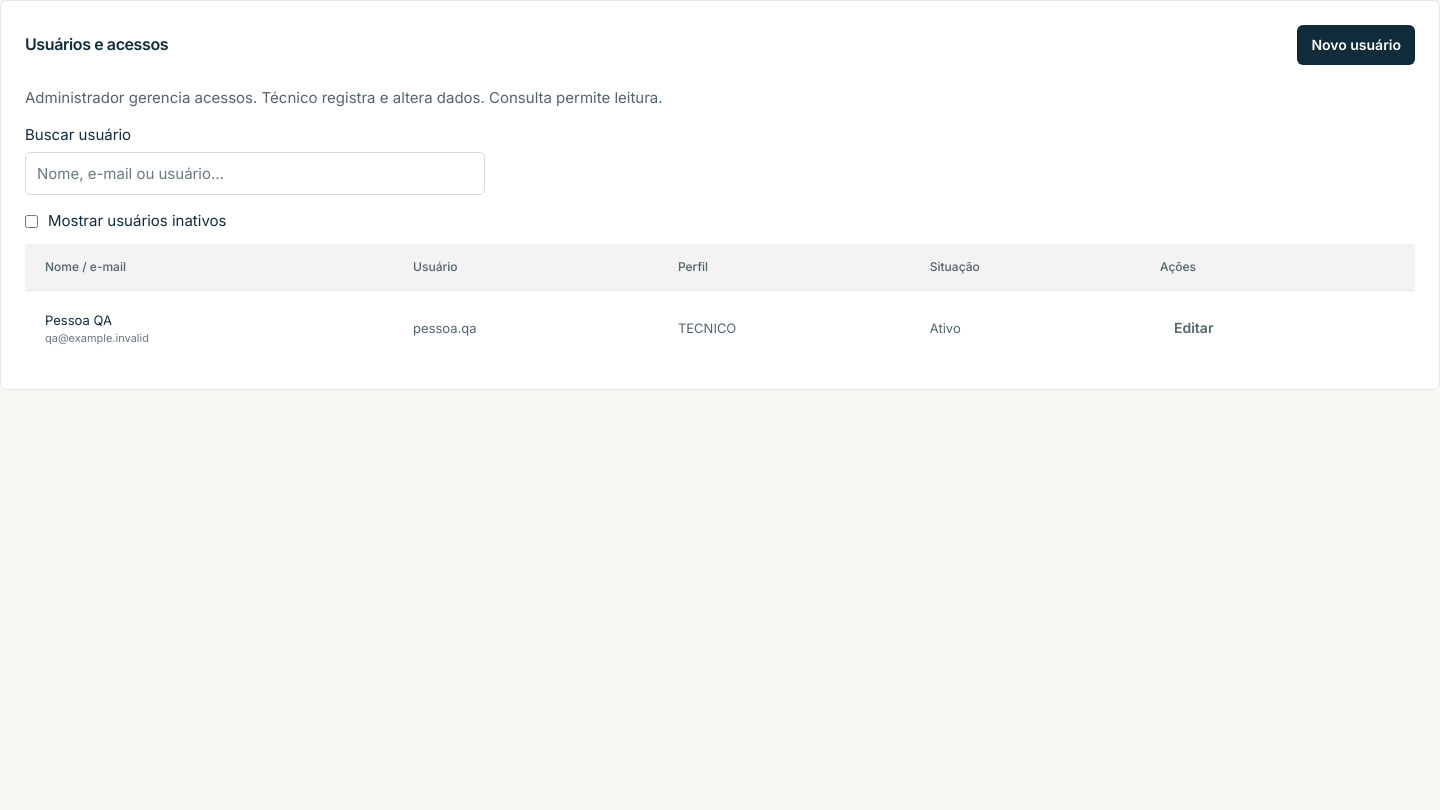
Test: edita uma conta sem redefinir sua senha quando o campo fica vazio
Click the button "Editar" at (1194, 328), box [1160, 308, 1228, 348]
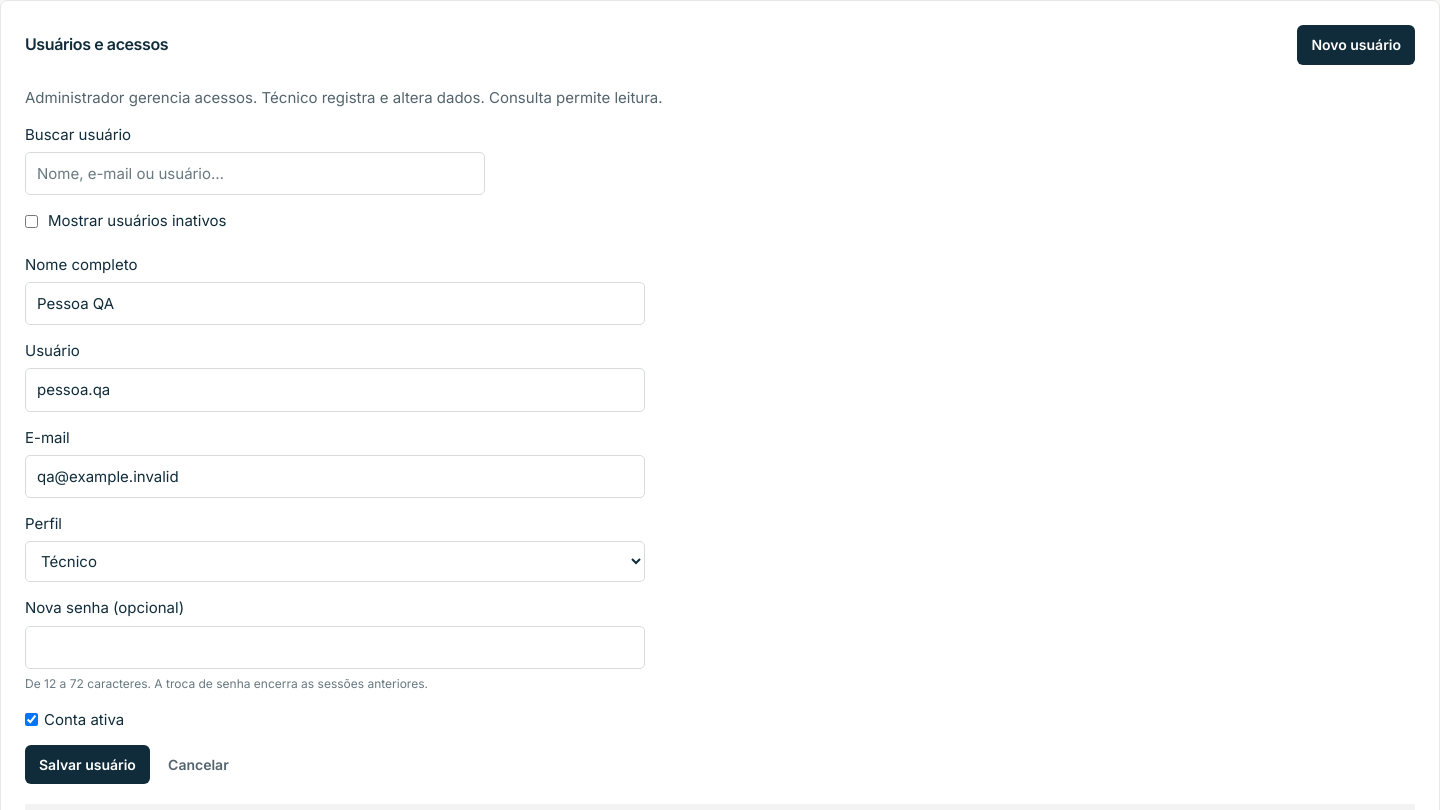
Select "Consulta" in the dropdown labelled "Perfil" at (335, 562), box [25, 541, 645, 582]
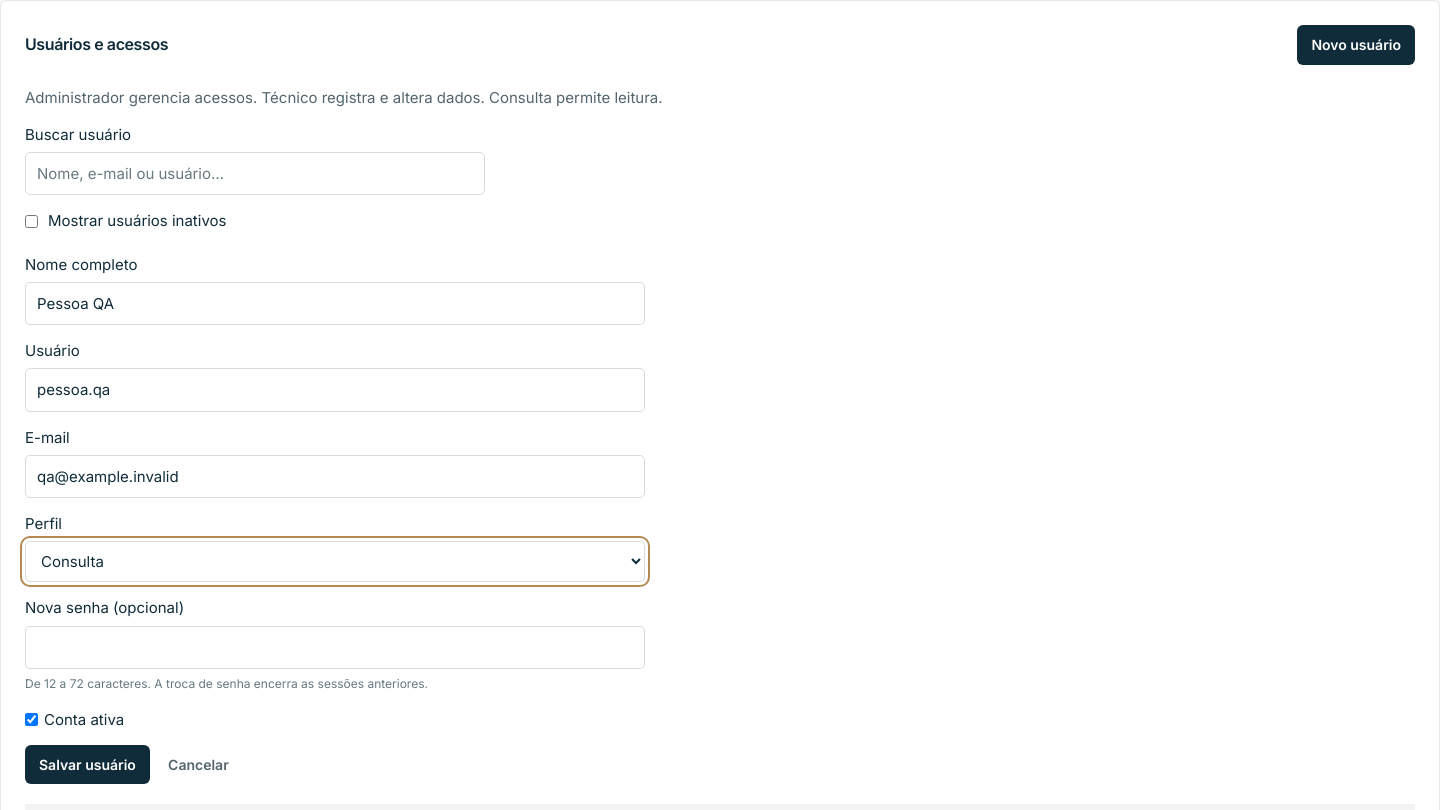
Click the button "Salvar usuário" at (87, 765), box [25, 745, 150, 784]
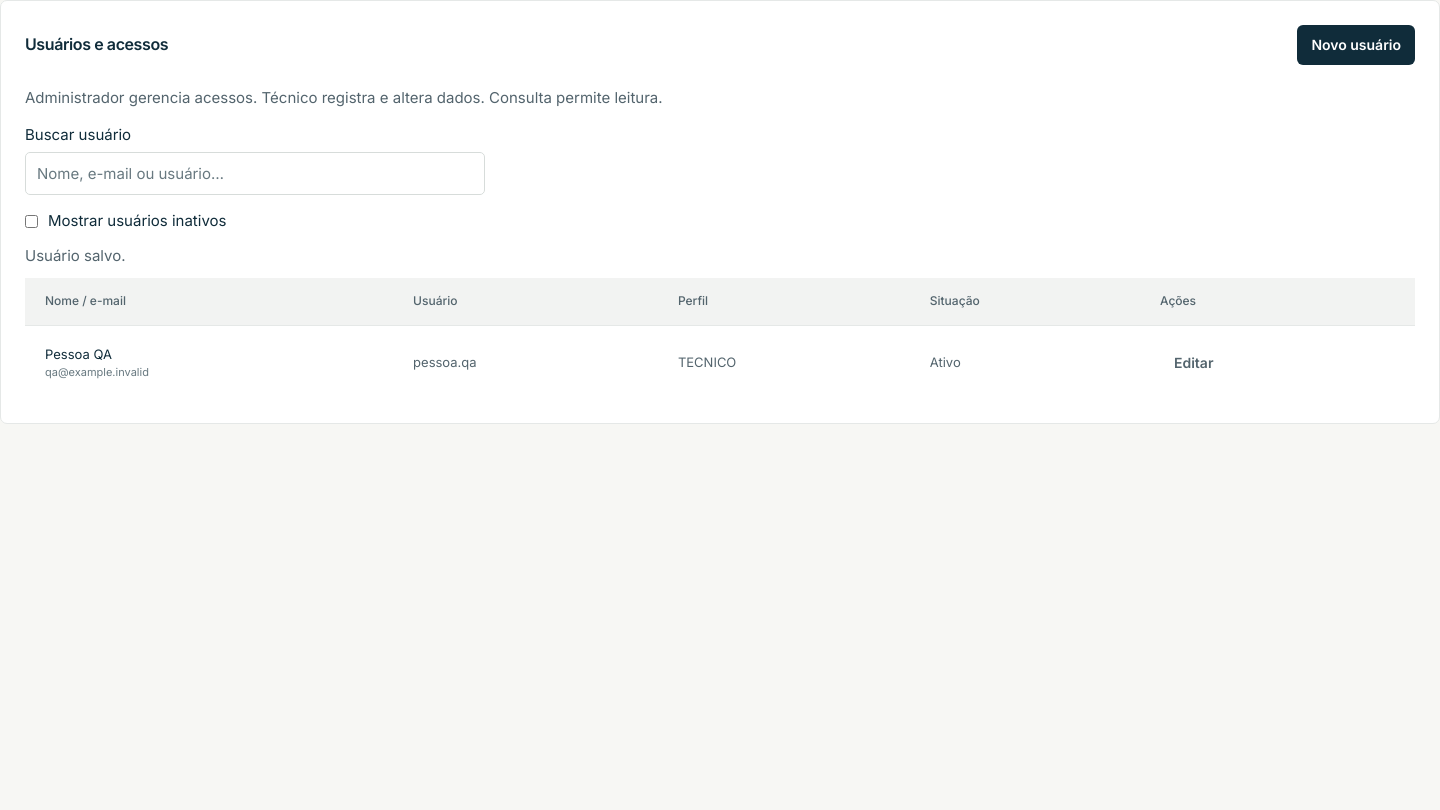
Expected: the text "Usuário salvo." is shown, [25, 246, 126, 265]
